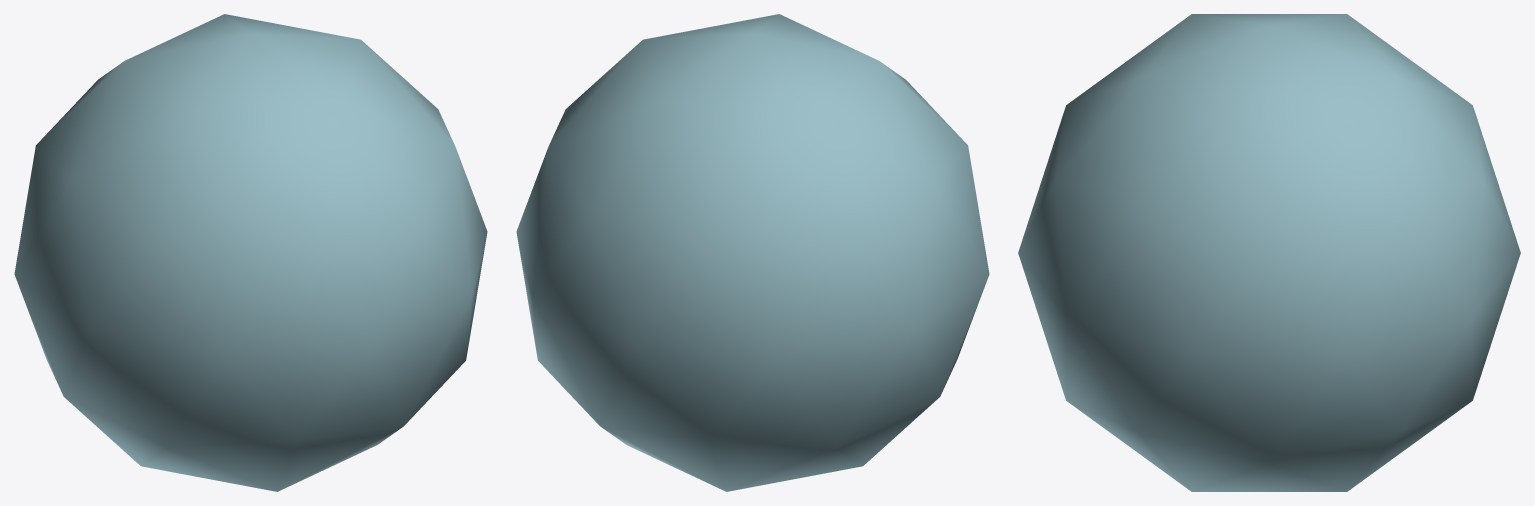
Rendered from landscape.dae.
The picture shows the model from 3 angles, left to right: view 1: azimuth 30°, elevation 25°; view 2: azimuth 150°, elevation 25°; view 3: azimuth 270°, elevation 25°; orthographic projection. The views are drawn at different scales.
Parts seen in each view (by area): view 1: GeoSphere01; view 2: GeoSphere01; view 3: GeoSphere01.
Boxes of the visible parts, x1,y1,x2,y2 form: GeoSphere01: (14,14,487,491); GeoSphere01: (516,14,989,491); GeoSphere01: (1018,14,1520,491).
Bounding box in the file's own units: 211 × 222 × 222.
